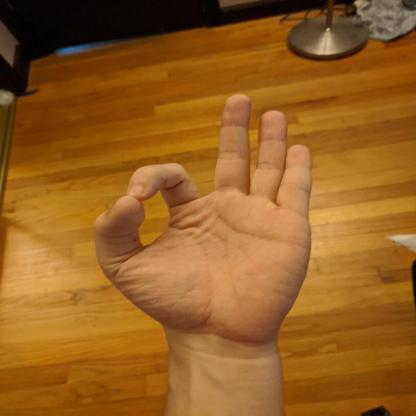F: (94, 93, 312, 349)
